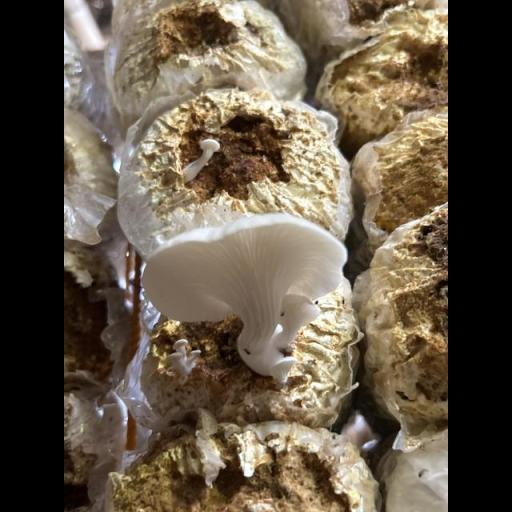White Oyster Mushroom: (144, 212, 345, 379)
